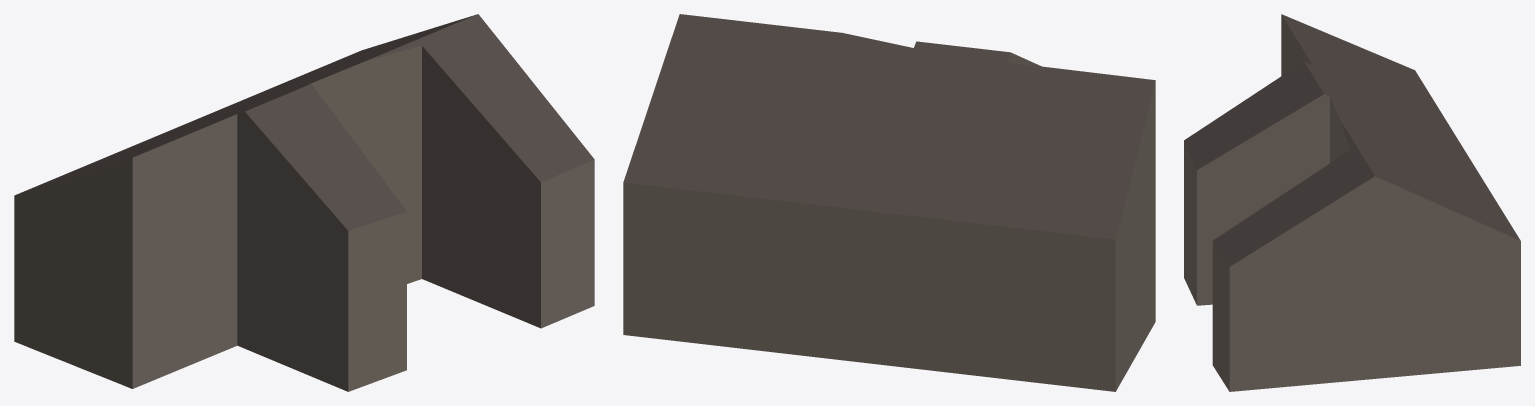
3 views of the same model, side by side, from view 1: azimuth 30°, elevation 25°; view 2: azimuth 150°, elevation 25°; view 3: azimuth 270°, elevation 25° (orthographic). The views are drawn at different scales.
Visible parts, largest first — view 1: HP-w1516161908; view 2: HP-w1516161908; view 3: HP-w1516161908.
Boxes of the visible parts, x1,y1,x2,y2 form: HP-w1516161908: [14, 14, 594, 391]; HP-w1516161908: [623, 14, 1155, 391]; HP-w1516161908: [1184, 14, 1520, 391].
Bounding box in the file's own units: 20.31 × 9.75 × 14.68.
